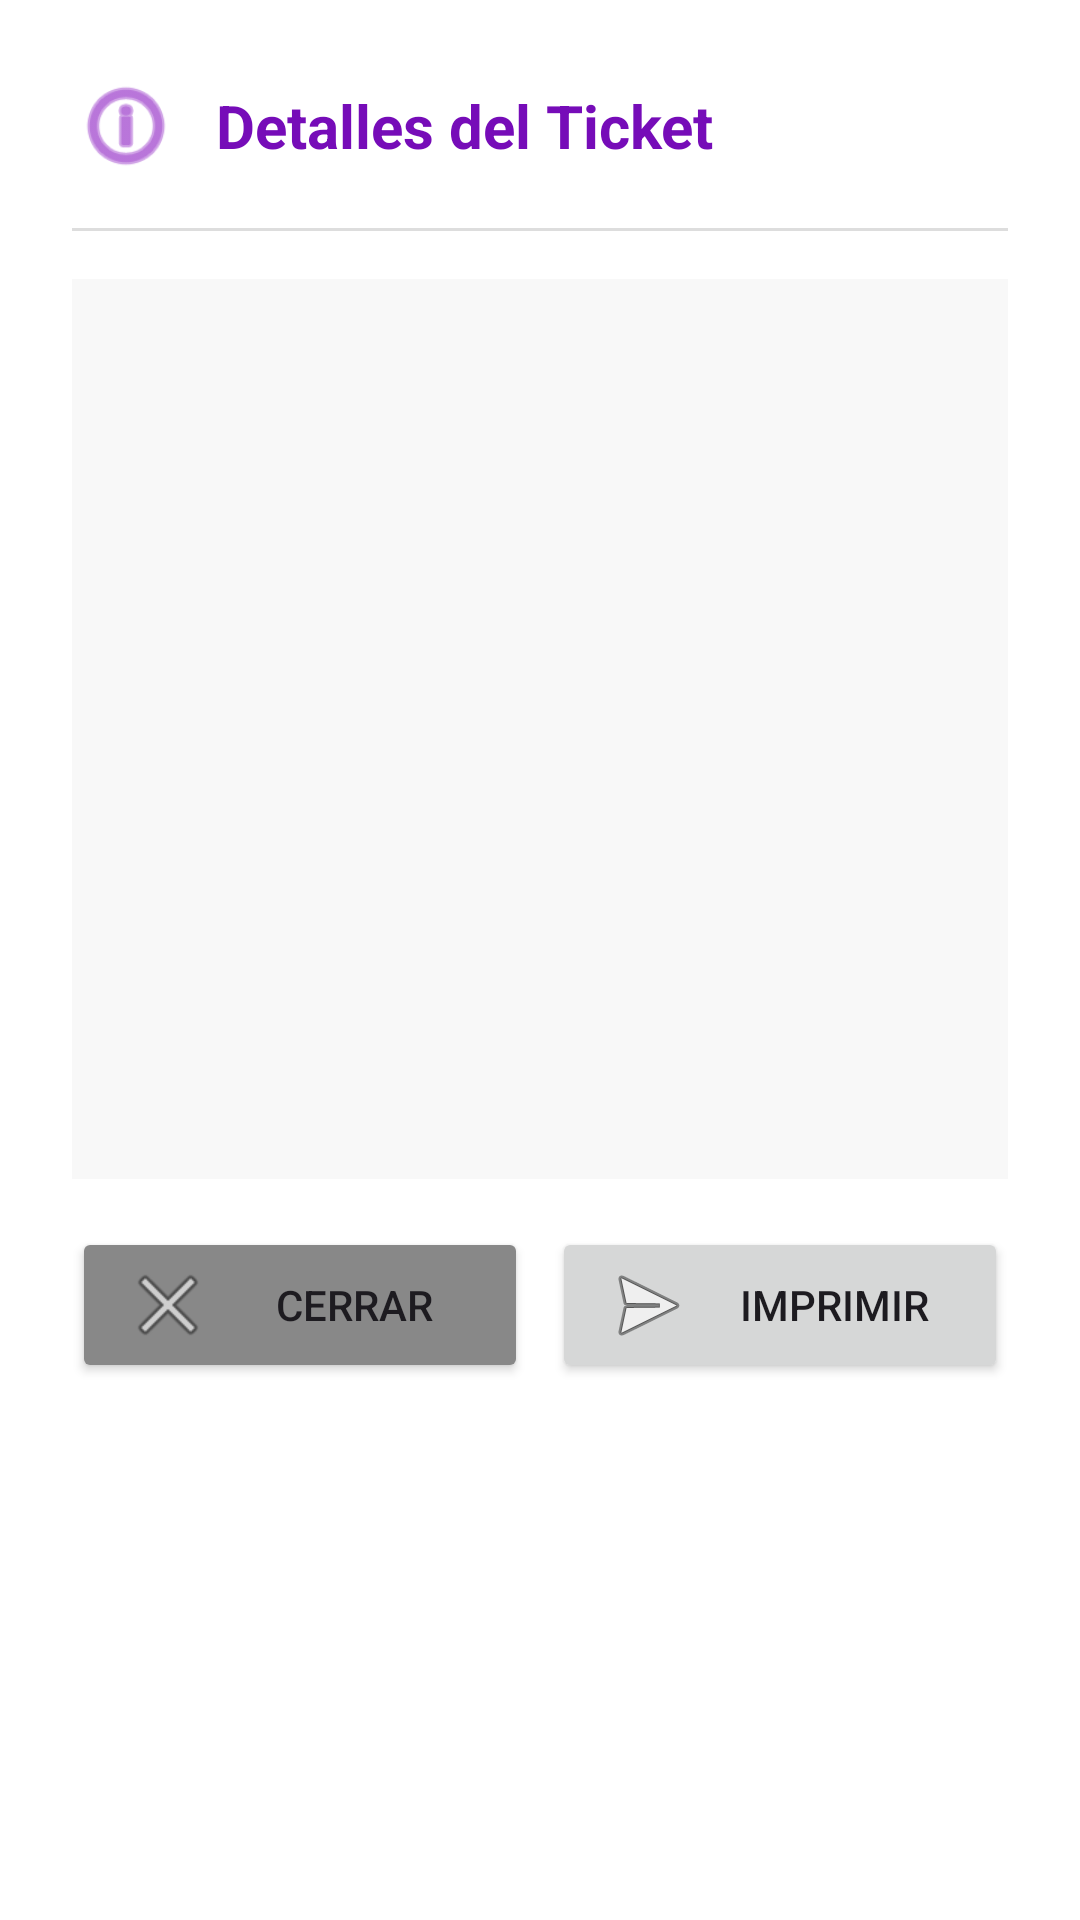

Icons on this 1080w x 1920h Android screen, each with its box as (x1, y1, x2, y2):
info details: (87, 87, 165, 165)
